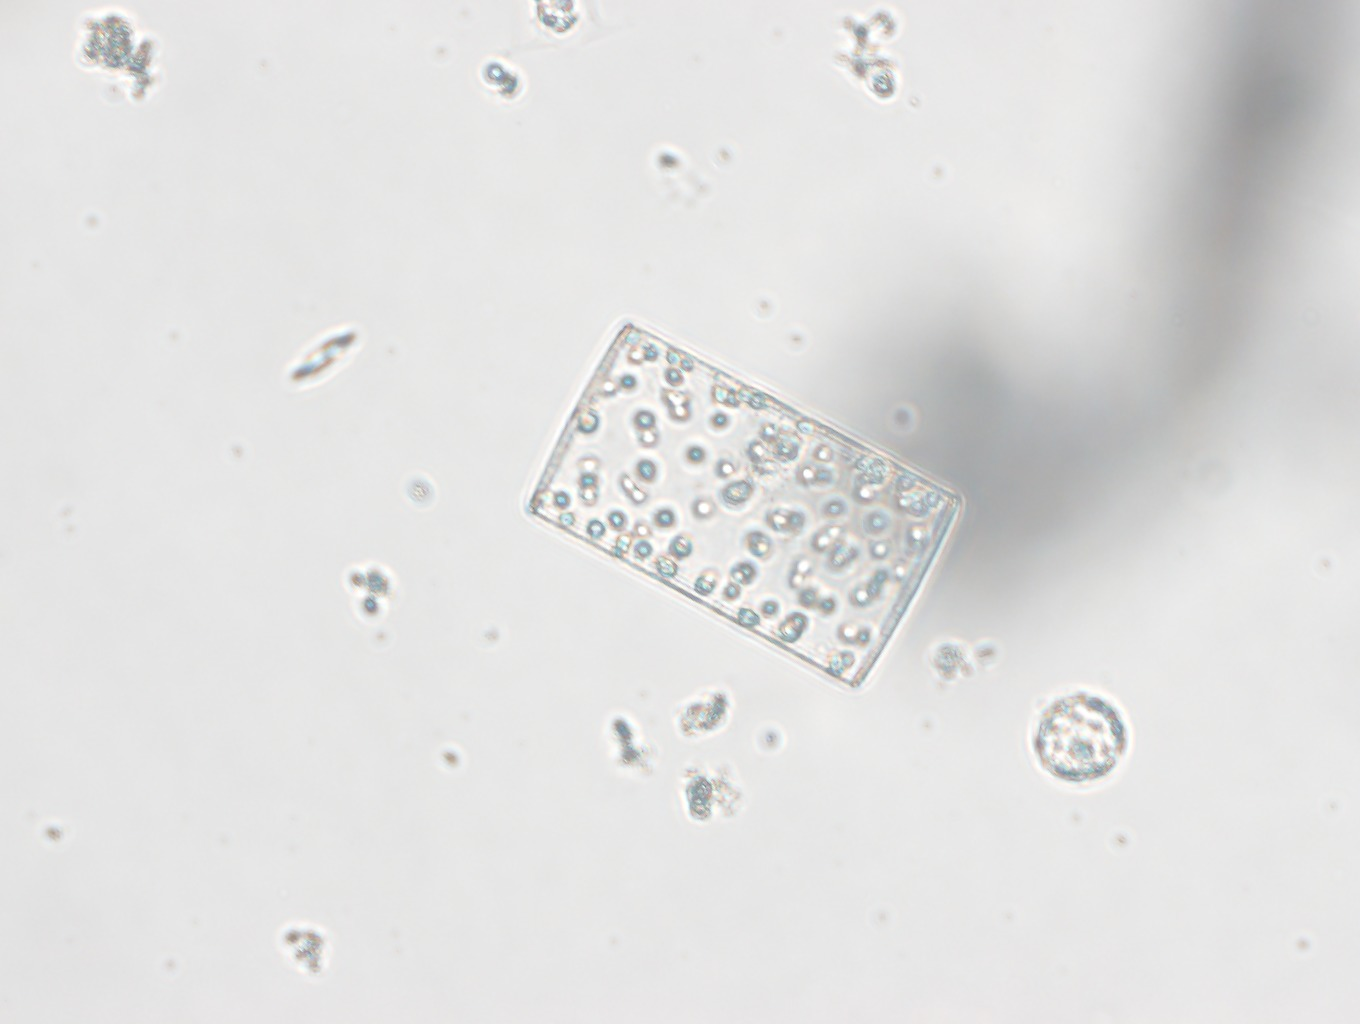guinardia flaccida: (511, 317, 967, 695)
